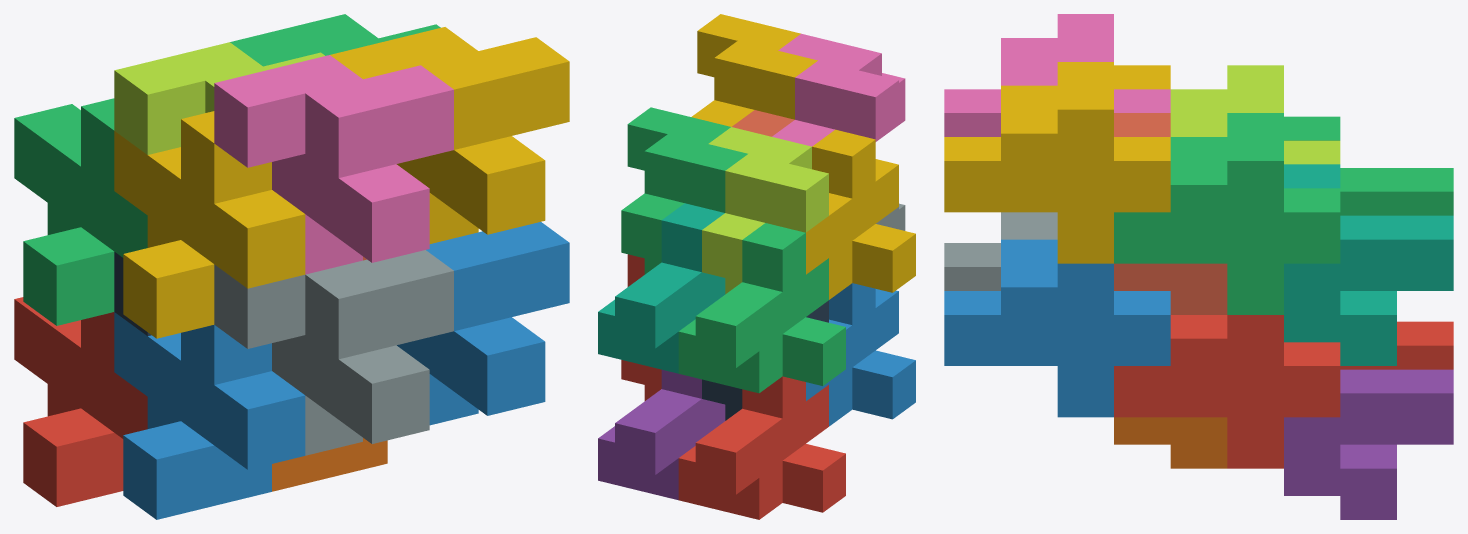
The model's file is tiling.obj.
3 views of the same model, side by side, from view 1: azimuth 30°, elevation 25°; view 2: azimuth 150°, elevation 25°; view 3: azimuth 270°, elevation 25° (orthographic). The views are drawn at different scales.
Visible parts, largest first — view 1: copy_2_domain_4, copy_2_domain_2, copy_1_domain_2, copy_1_domain_4, copy_2_domain_8, copy_2_domain_6, copy_1_domain_3, copy_1_domain_1, copy_2_domain_3, copy_2_domain_7, copy_1_domain_6, copy_2_domain_1; view 2: copy_1_domain_3, copy_1_domain_1, copy_1_domain_4, copy_1_domain_7, copy_2_domain_3, copy_2_domain_7, copy_2_domain_4, copy_1_domain_5, copy_2_domain_8, copy_1_domain_2, copy_2_domain_5, copy_2_domain_1 (+2 smaller); view 3: copy_2_domain_8, copy_2_domain_7, copy_2_domain_6, copy_2_domain_5, copy_1_domain_7, copy_1_domain_5, copy_2_domain_4, copy_2_domain_3, copy_1_domain_3, copy_1_domain_8, copy_1_domain_6, copy_2_domain_2 (+2 smaller).
Part boxes in pixels (box(x1,y1,x2,y2)): copy_2_domain_4: box(214, 55, 453, 274); copy_2_domain_2: box(214, 250, 453, 455); copy_1_domain_2: box(114, 312, 305, 519); copy_1_domain_4: box(114, 111, 305, 338); copy_2_domain_8: box(330, 27, 569, 243); copy_2_domain_6: box(397, 222, 569, 425); copy_1_domain_3: box(14, 98, 147, 325); copy_1_domain_1: box(14, 297, 147, 506); copy_2_domain_3: box(114, 42, 324, 154); copy_2_domain_7: box(230, 14, 440, 66); copy_1_domain_6: box(272, 438, 387, 491); copy_2_domain_1: box(114, 252, 151, 336); copy_1_domain_3: box(678, 223, 845, 393); copy_1_domain_1: box(678, 376, 845, 519); copy_1_domain_4: box(806, 129, 915, 299); copy_1_domain_7: box(598, 203, 725, 373); copy_2_domain_3: box(702, 127, 828, 294); copy_2_domain_7: box(621, 107, 747, 274); copy_2_domain_4: box(772, 33, 905, 146); copy_1_domain_5: box(598, 369, 725, 500); copy_2_domain_8: box(691, 14, 817, 126); copy_1_domain_2: box(806, 283, 915, 426); copy_2_domain_5: box(621, 254, 661, 400); copy_2_domain_1: box(702, 300, 828, 420); copy_2_domain_8: box(944, 62, 1170, 263); copy_2_domain_7: box(1114, 113, 1340, 314); copy_2_domain_6: box(944, 239, 1170, 417); copy_2_domain_5: box(1114, 315, 1340, 468); copy_1_domain_7: box(1284, 164, 1453, 365); copy_1_domain_5: box(1284, 369, 1453, 519); copy_2_domain_4: box(944, 14, 1170, 136); copy_2_domain_3: box(1170, 65, 1340, 164); copy_1_domain_3: box(1284, 116, 1453, 215); copy_1_domain_8: box(1114, 113, 1227, 314); copy_1_domain_6: box(1114, 417, 1227, 468); copy_2_domain_2: box(944, 212, 1057, 290).
Size of the model in its own units: 6 by 8 by 9.
